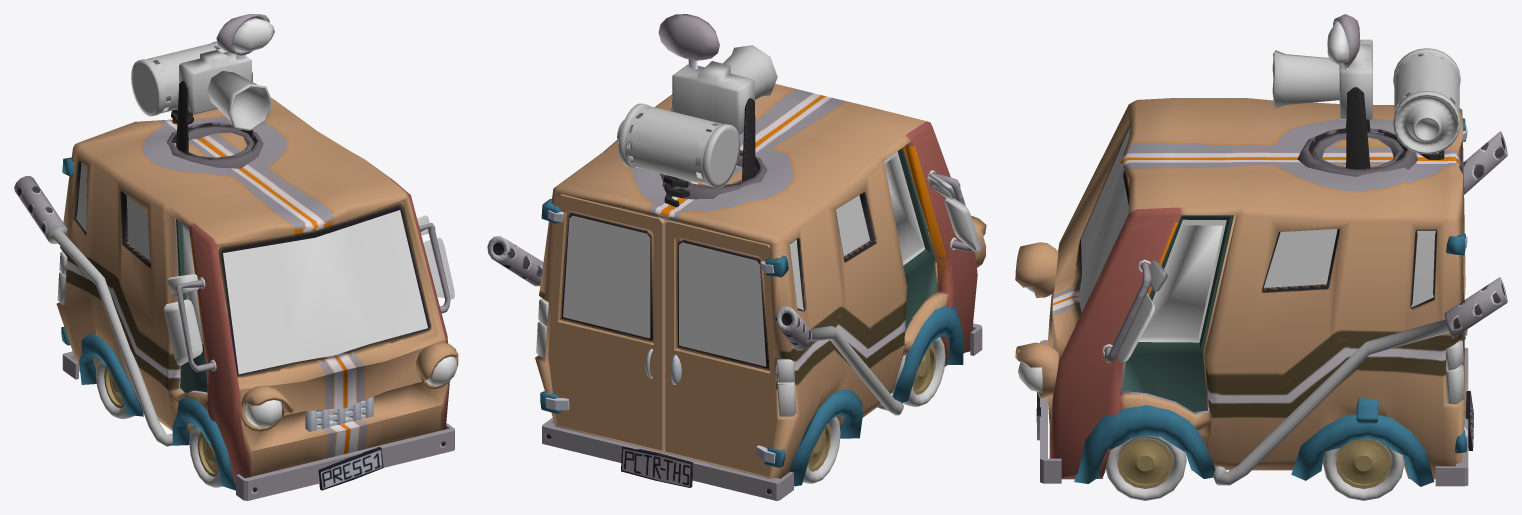
The model's file is Car5.fbx.
3 renders of one model, left to right at view 1: azimuth 30°, elevation 25°; view 2: azimuth 150°, elevation 25°; view 3: azimuth 270°, elevation 25°, orthographic. The views are drawn at different scales.
Parts seen in each view (by area): view 1: Car, FrontWindow, Exhaust, BumperFront, Lens, MirrorS.001, Camera.001, Splash Guard Front, Protector, Splash Guard Back, Rail, Window (+14 smaller); view 2: Car, RearDoorLeft, RearDoorRight, BackWindow, BackWindow.001, PhotoReel, Exhaust, Camera.001, BumperRear, Splash Guard Front, Splash Guard Back, Caps (+16 smaller); view 3: Car, Exhaust, SideDoorWindowLeft, SideDoorLeft, Splash Guard Front, Window, Splash Guard Back, Caps, FrontWindow, Protector, Lens, PhotoReel (+16 smaller).
Part boxes in pixels (x1,y1,x2,y2): Car: (56, 98, 449, 484); FrontWindow: (223, 210, 427, 374); Exhaust: (14, 176, 172, 446); BumperFront: (236, 423, 454, 500); Lens: (207, 71, 272, 130); MirrorS.001: (164, 237, 454, 365); Camera.001: (179, 50, 251, 114); Splash Guard Front: (172, 397, 235, 490); Protector: (241, 342, 458, 431); Splash Guard Back: (79, 334, 143, 416); Rail: (167, 122, 263, 168); Window: (76, 162, 150, 260); Car: (535, 83, 977, 478); RearDoorLeft: (548, 194, 665, 450); RearDoorRight: (665, 220, 776, 476); BackWindow: (563, 215, 650, 338); BackWindow.001: (679, 242, 766, 366); PhotoReel: (624, 105, 721, 184); Exhaust: (487, 236, 903, 415); Camera.001: (672, 61, 754, 135); BumperRear: (542, 417, 793, 500); Splash Guard Front: (892, 305, 963, 402); Splash Guard Back: (789, 389, 862, 486); Caps: (617, 103, 740, 187); Car: (1047, 98, 1465, 479); Exhaust: (1213, 131, 1507, 485); SideDoorWindowLeft: (1138, 219, 1226, 342); SideDoorLeft: (1123, 215, 1233, 412); Splash Guard Front: (1074, 405, 1215, 483); Window: (1264, 228, 1435, 307); Splash Guard Back: (1291, 414, 1434, 486); Caps: (1393, 48, 1460, 154); FrontWindow: (1078, 128, 1129, 312); Protector: (1015, 242, 1058, 398); Lens: (1272, 50, 1339, 108); PhotoReel: (1394, 51, 1459, 113).
Size of the model in its own units: 338 by 437 by 441.
